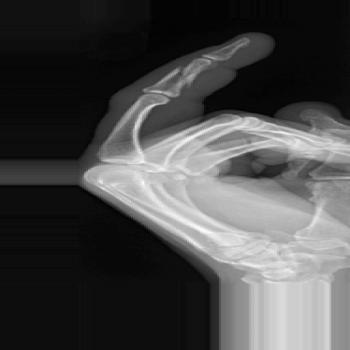Fracture: (162, 60, 201, 92)
